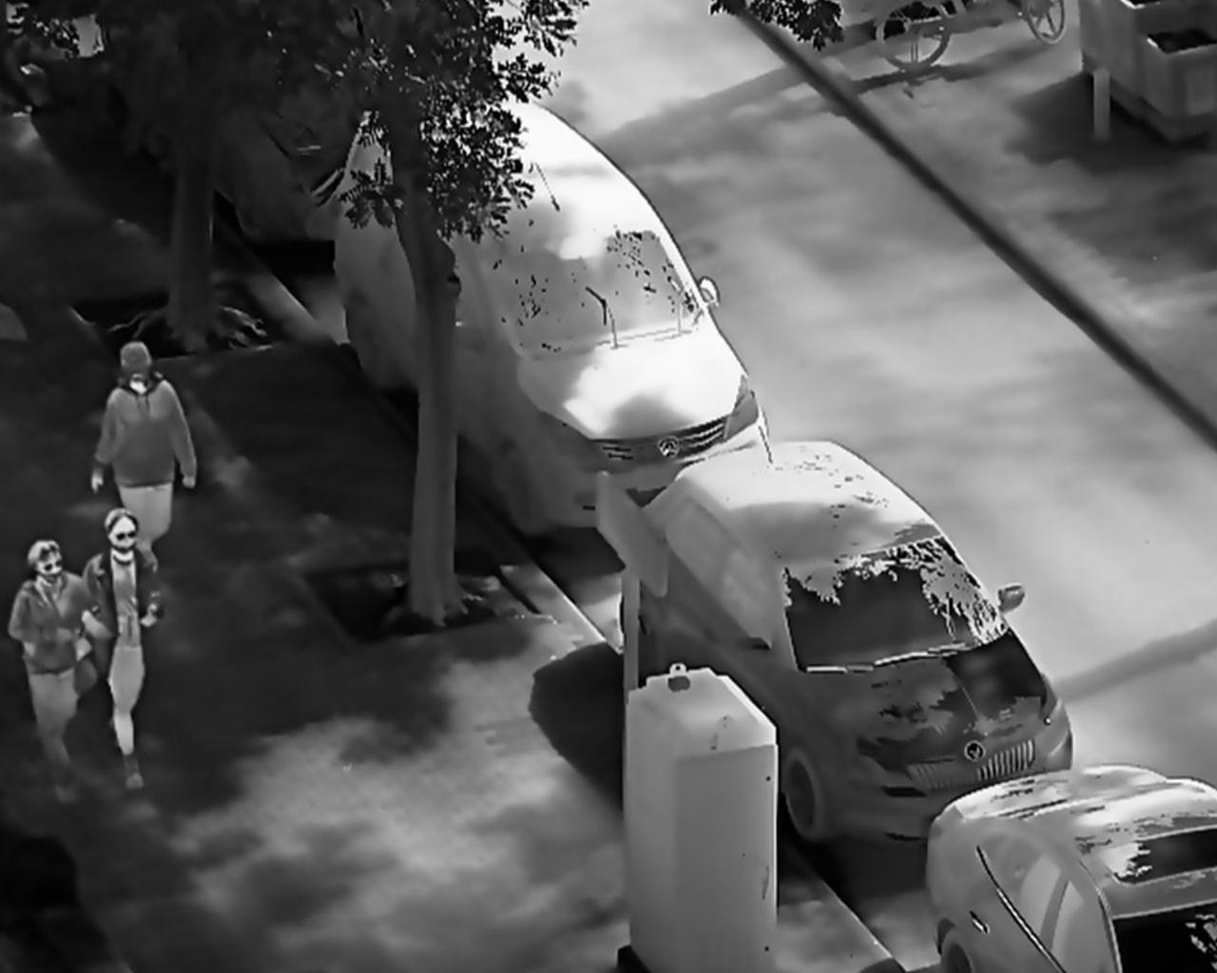person: (6, 538, 112, 804), (89, 337, 201, 579), (75, 506, 166, 794)
